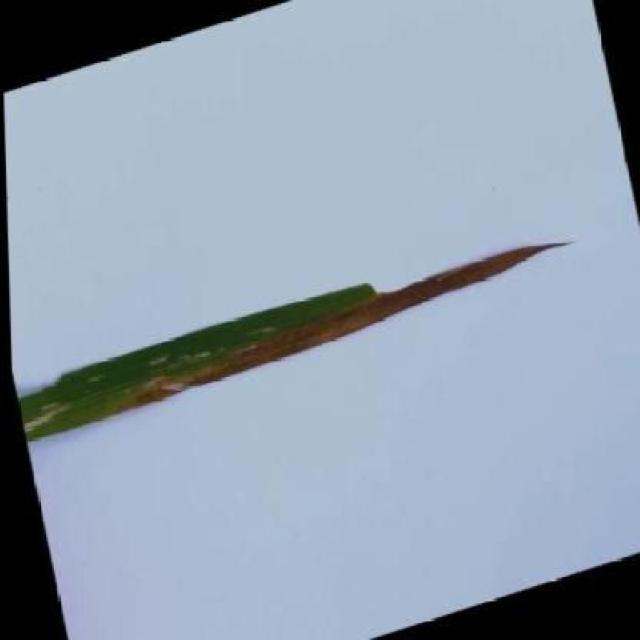Rice False Smut: (16, 243, 566, 440)
